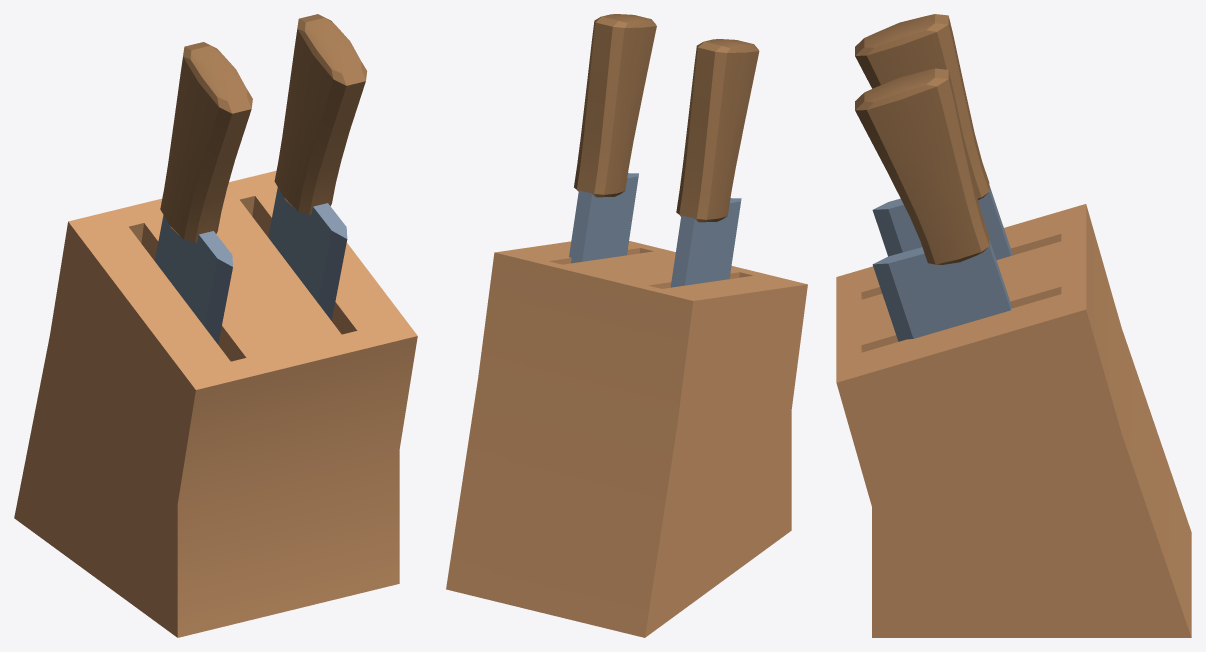
Rendered from knives.glb.
The picture shows the model from 3 angles, left to right: view 1: azimuth 30°, elevation 25°; view 2: azimuth 150°, elevation 25°; view 3: azimuth 270°, elevation 25°; orthographic projection. The views are drawn at different scales.
Parts seen in each view (by area): view 1: Environment_KitchenKnives; view 2: Environment_KitchenKnives; view 3: Environment_KitchenKnives.
Boxes of the visible parts, left/top/right/bottom form: Environment_KitchenKnives: left=14, top=14, right=417, bottom=637; Environment_KitchenKnives: left=446, top=14, right=807, bottom=637; Environment_KitchenKnives: left=836, top=14, right=1191, bottom=637.
Bounding box in the file's own units: 0.5937 × 1.41 × 0.8426.
1 material, 1 textured.
